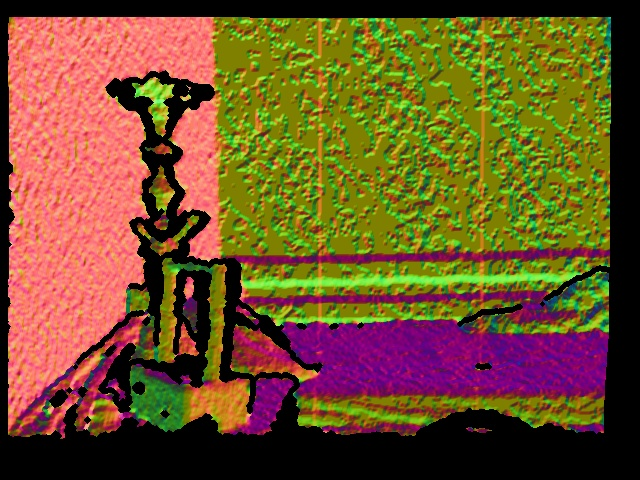station: (126, 253, 254, 436)
